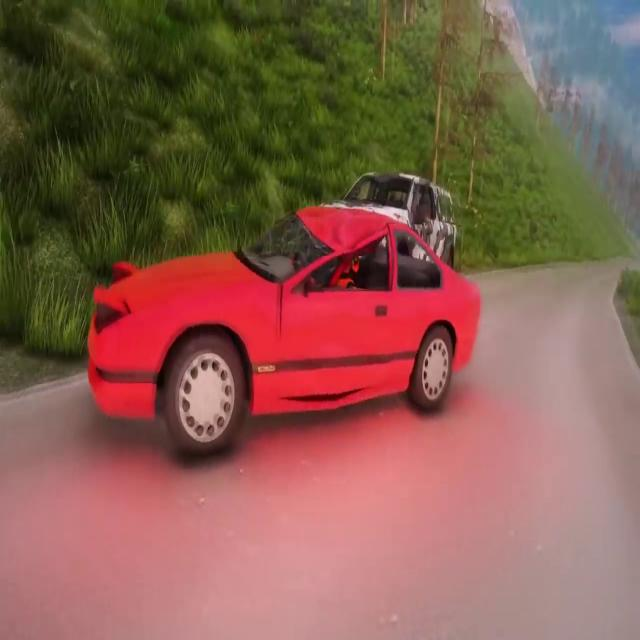accident: (84, 170, 490, 461)
